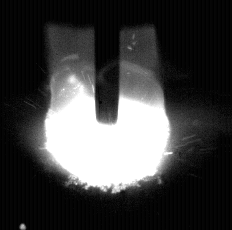arame: (95, 0, 120, 125)
poca: (44, 0, 171, 230)
